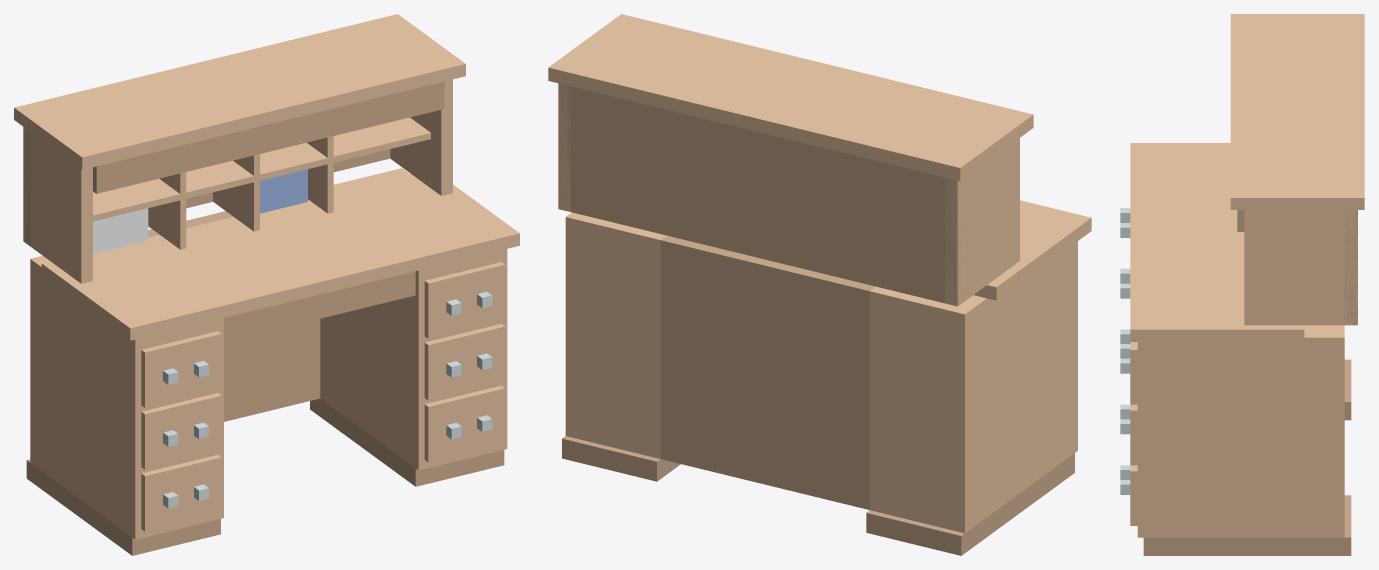
The model's file is deskRolltop.glb.
3 views of the same model, side by side, from view 1: azimuth 30°, elevation 25°; view 2: azimuth 150°, elevation 25°; view 3: azimuth 270°, elevation 25° (orthographic). The views are drawn at different scales.
Visible parts, largest first — view 1: deskRolltop; view 2: deskRolltop; view 3: deskRolltop.
Part boxes in pixels (x1=…): deskRolltop: x1=14, y1=14, x2=519, y2=555; deskRolltop: x1=548, y1=14, x2=1091, y2=555; deskRolltop: x1=1120, y1=14, x2=1364, y2=555.
Size of the model in its own units: 0.66 by 0.595 by 0.365.
